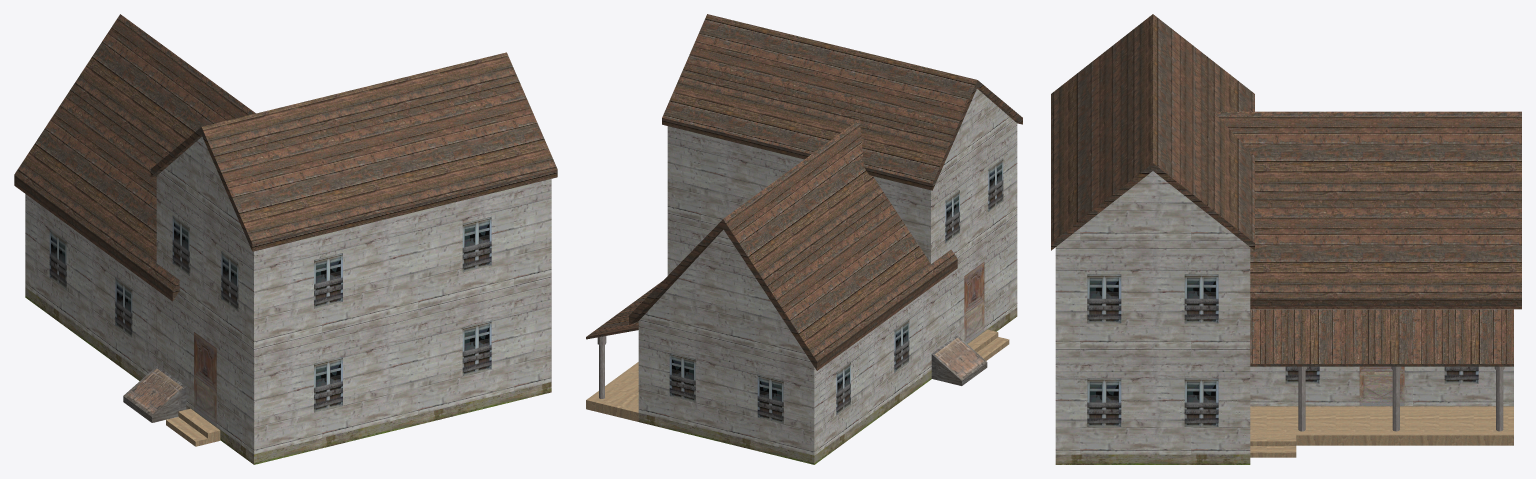
The model's file is psx_abandoned_house.glb.
3 views of the same model, side by side, from view 1: azimuth 30°, elevation 25°; view 2: azimuth 150°, elevation 25°; view 3: azimuth 270°, elevation 25° (orthographic). The views are drawn at different scales.
Parts seen in each view (by area): view 1: PSX Abandoned House; view 2: PSX Abandoned House; view 3: PSX Abandoned House.
Part boxes in pixels (x1=…): PSX Abandoned House: x1=14, y1=14, x2=557, y2=464; PSX Abandoned House: x1=586, y1=14, x2=1022, y2=464; PSX Abandoned House: x1=1051, y1=14, x2=1521, y2=464.
Size of the model in its own units: 6.77 by 5.86 by 8.22.
9 materials, 9 textured.
